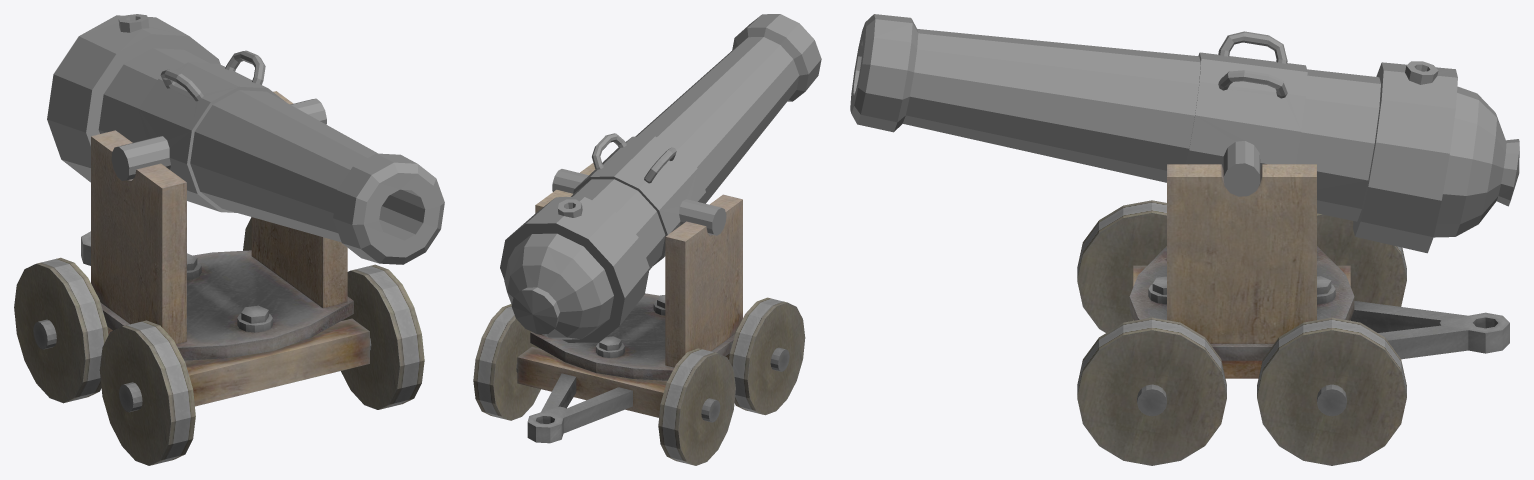
The picture shows the model from 3 angles, left to right: view 1: azimuth 30°, elevation 25°; view 2: azimuth 150°, elevation 25°; view 3: azimuth 270°, elevation 25°; orthographic projection. The views are drawn at different scales.
Visible parts, largest first — view 1: mesh_0_1, mesh_0; view 2: mesh_0_1, mesh_0; view 3: mesh_0_1, mesh_0.
Part boxes in pixels (left/top/right/bottom): mesh_0_1: left=14, top=91, right=424, bottom=465; mesh_0: left=47, top=14, right=444, bottom=264; mesh_0_1: left=473, top=163, right=805, bottom=465; mesh_0: left=500, top=14, right=821, bottom=342; mesh_0_1: left=1077, top=164, right=1509, bottom=465; mesh_0: left=850, top=14, right=1519, bottom=253.
Bounding box in the file's own units: 1.23 × 1.57 × 2.5.
2 materials, 2 textured.
